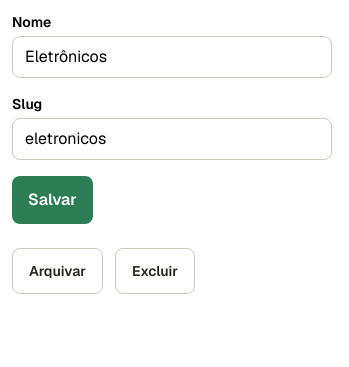
CategoryDetail › UXA-004: editar com erro não dispara o toast
The width and height of the screenshot is (349, 367).
Replace the text in the field labelled "Nome" with "Eletrônicos e Acessórios" at (172,57), box [12,36,332,78]
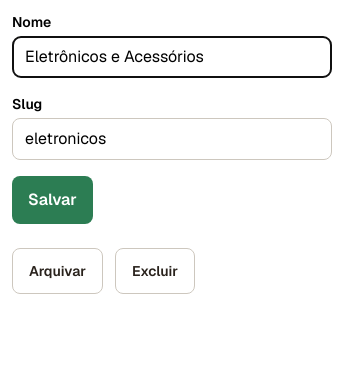
Click the button "Salvar" at (52,200), box [12,176,93,224]
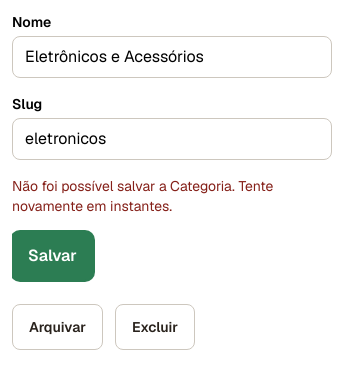
Expected: the text "Não foi possível salvar a Categoria. Tente novamente em instantes." is shown, [12,177,273,215]
